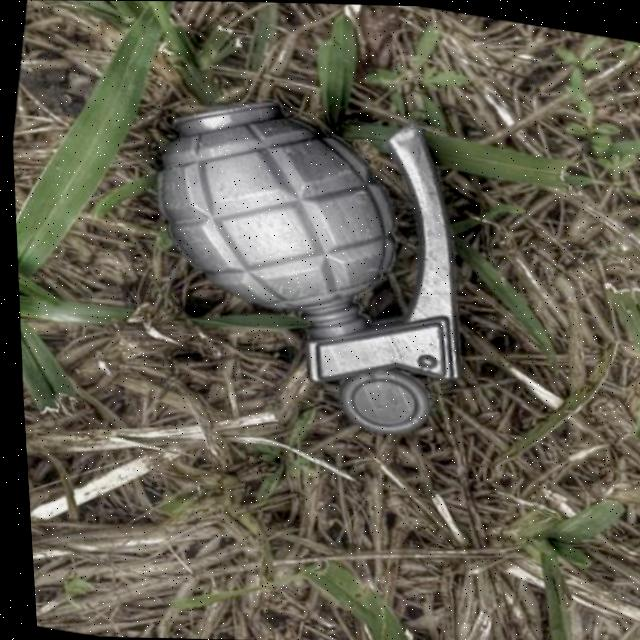grenade: (102, 79, 493, 441)
